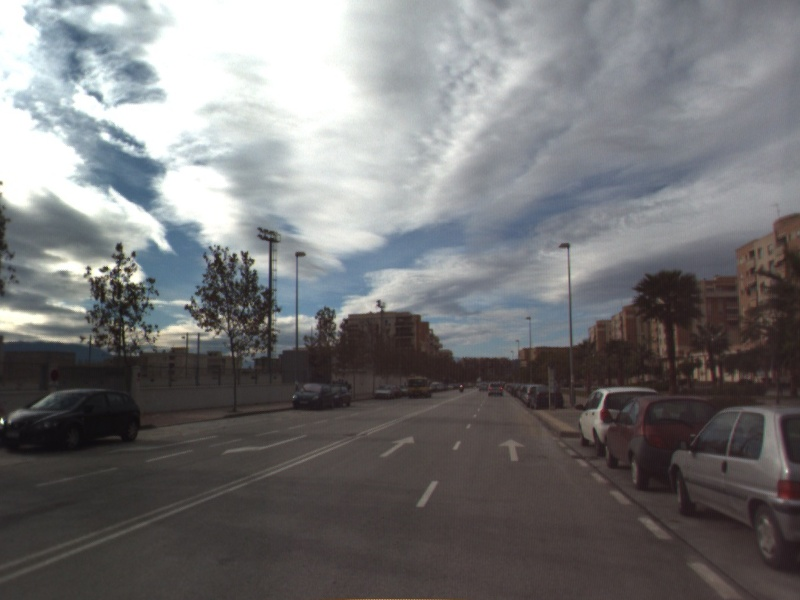STRAIGHT: (378, 434, 417, 459), (496, 437, 529, 463)
